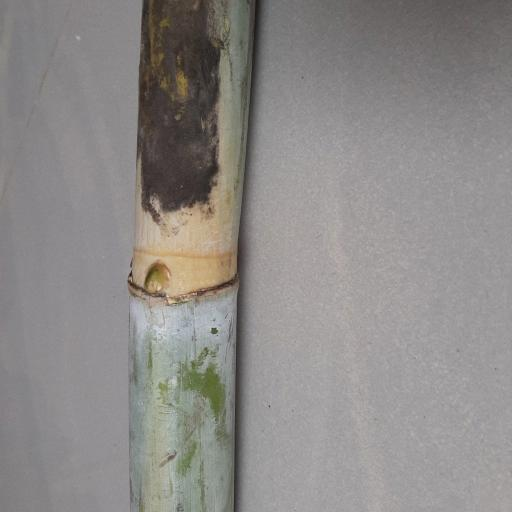Bud: (144, 263, 170, 297)
